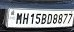numberplate: (6, 7, 73, 28)
